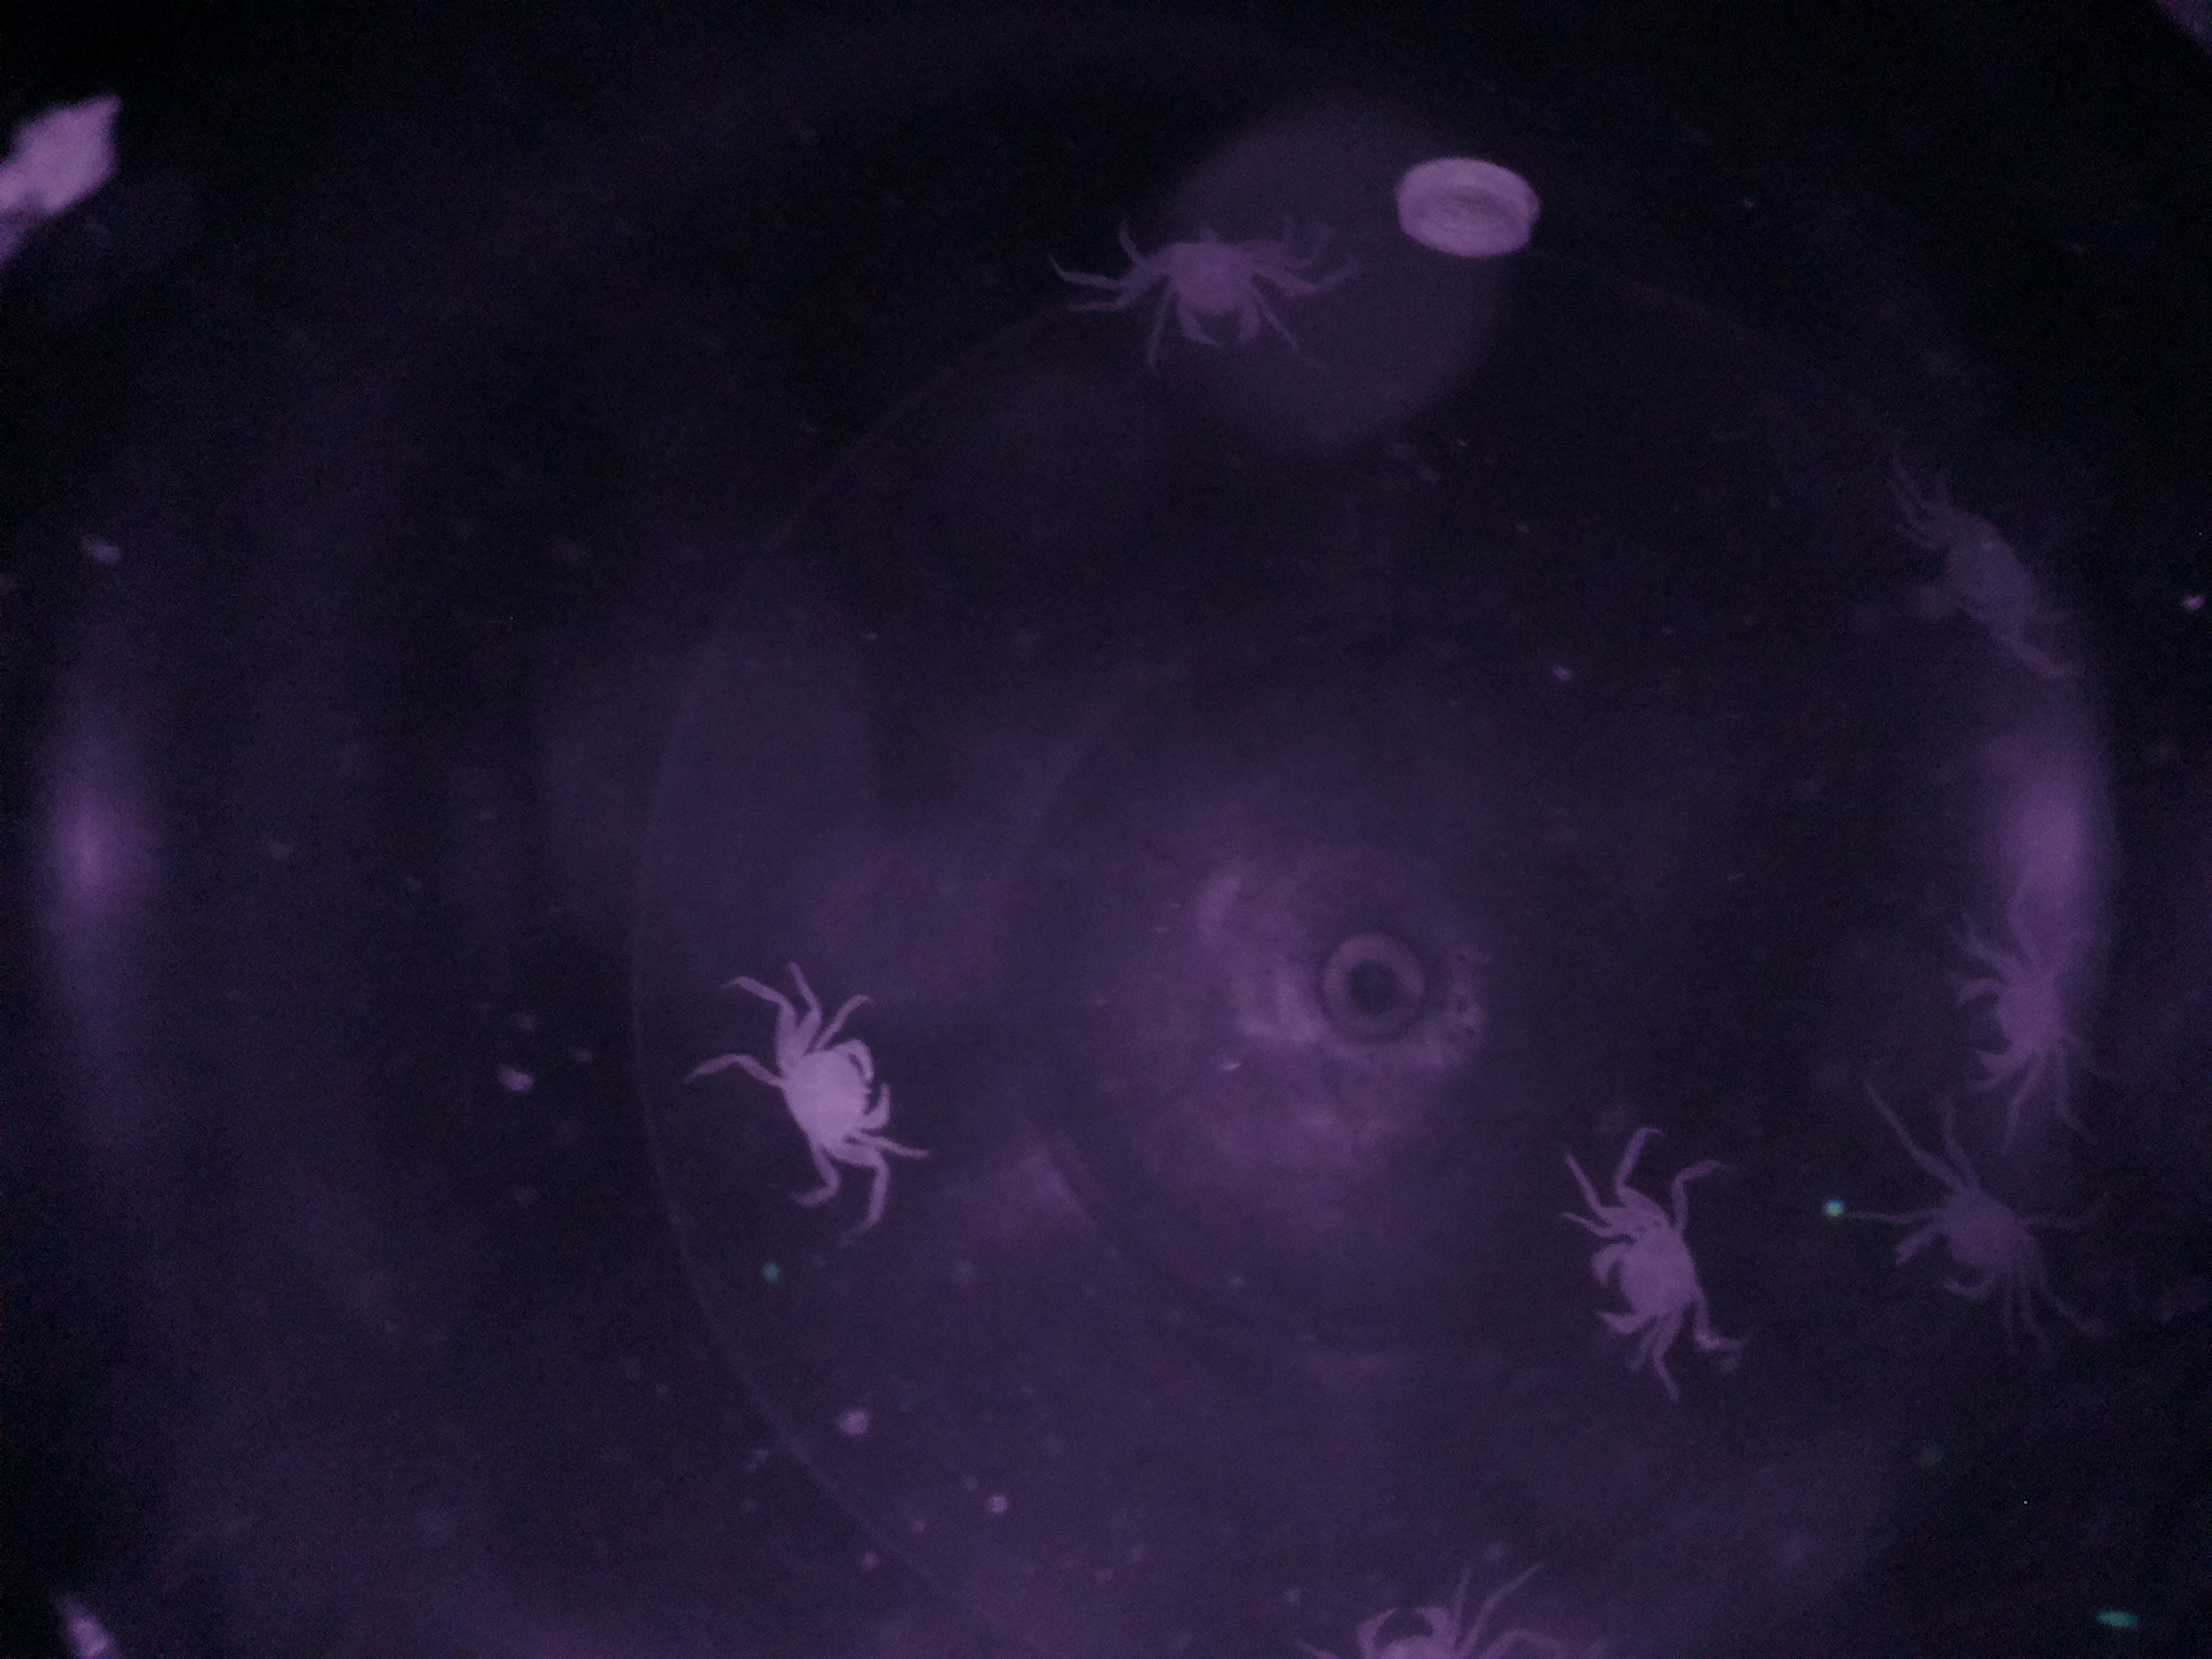Crab: (1928, 917, 2104, 1107), (1552, 1188, 1733, 1361), (742, 1006, 907, 1185), (1130, 204, 1291, 364)
